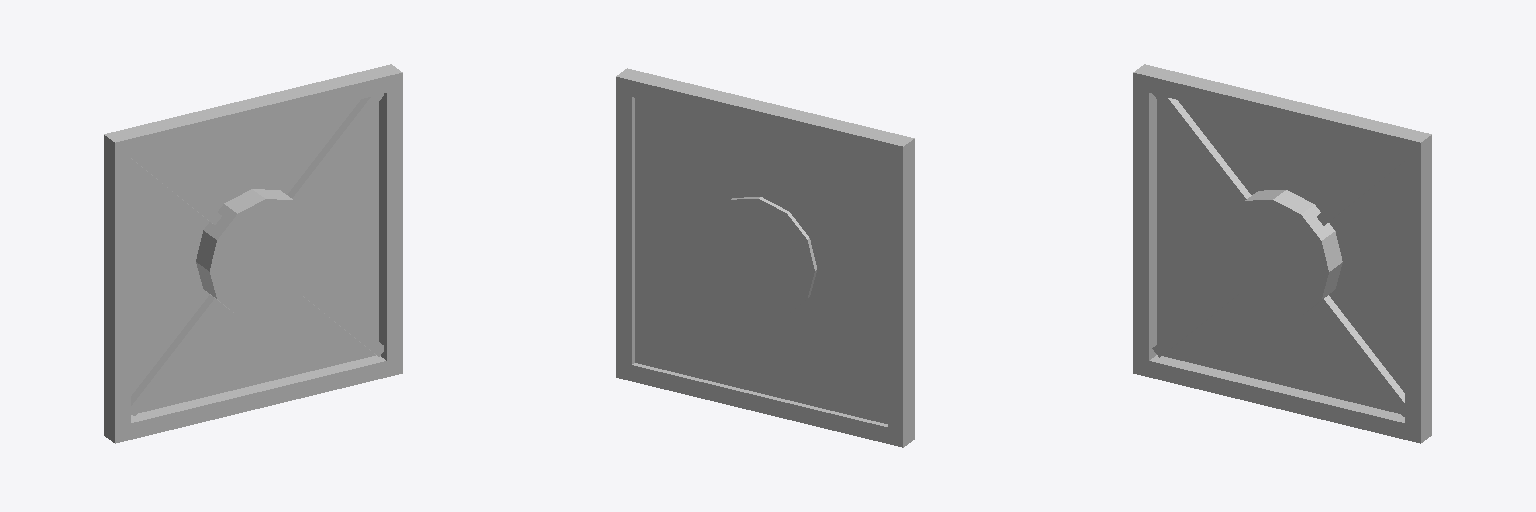
File: Vent_C.obj
The picture shows the model from 3 angles: view 1: azimuth 30°, elevation 25°; view 2: azimuth 150°, elevation 25°; view 3: azimuth 330°, elevation 25°; orthographic projection.
Visible parts, largest first — view 1: Ventilation_3; view 2: Ventilation_3; view 3: Ventilation_3.
Boxes of the visible parts, x1=… form: Ventilation_3: x1=104, y1=64, x2=402, y2=443; Ventilation_3: x1=616, y1=68, x2=914, y2=447; Ventilation_3: x1=1133, y1=64, x2=1431, y2=443.
Size of the model in its own units: 1.31 by 1.31 by 0.1331.